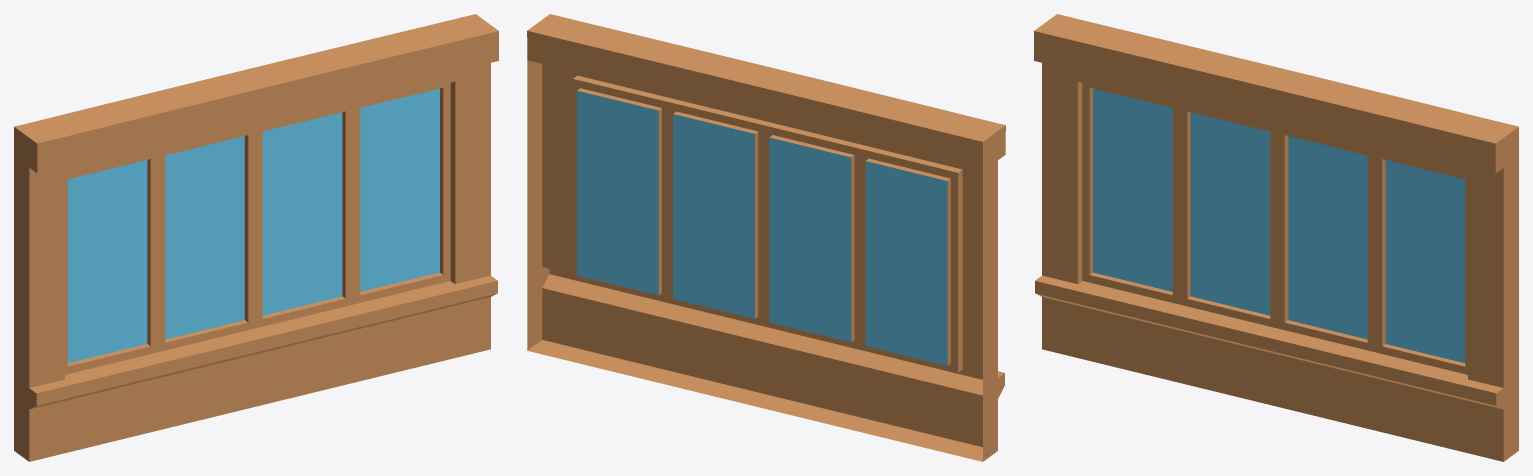
The model's file is DoorVitrine2.fbx.
3 renders of one model, left to right at view 1: azimuth 30°, elevation 25°; view 2: azimuth 150°, elevation 25°; view 3: azimuth 330°, elevation 25°, orthographic.
Parts seen in each view (by area): view 1: DoorVitrine2; view 2: DoorVitrine2; view 3: DoorVitrine2.
Part boxes in pixels (box(x1,y1,x2,y2)): DoorVitrine2: box(14, 14, 498, 461); DoorVitrine2: box(527, 14, 1005, 461); DoorVitrine2: box(1034, 14, 1518, 461).
Size of the model in its own units: 5 by 0.4353 by 3.36.
